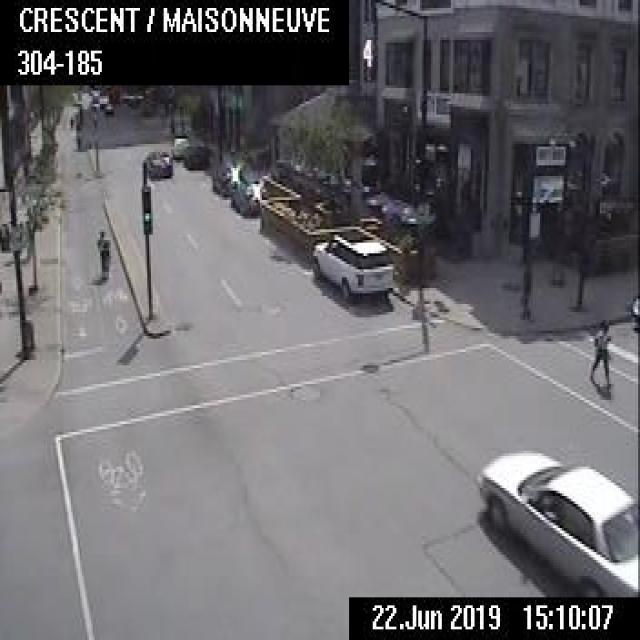pedestrian: (585, 312, 611, 389), (95, 227, 110, 281)
vehicle: (476, 440, 638, 592), (310, 227, 393, 301), (230, 181, 267, 213), (211, 163, 246, 196), (142, 149, 171, 177), (182, 143, 207, 168), (629, 295, 638, 322)
